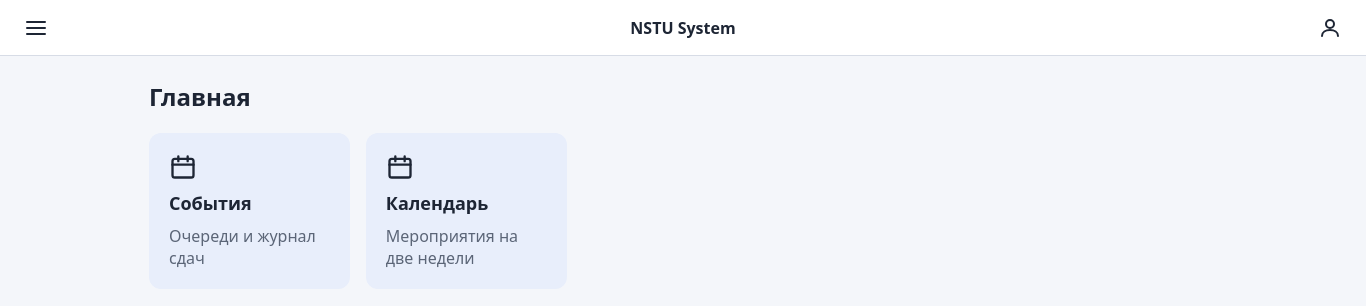
Test: оболочка интерфейса и иконка пользователя › Escape закрывает мини-инфо
expect the list with test id "module-grid" is shown: met, box [149,133,567,289]
Click the button named "Пользователь" at (1330, 28), box [1310,8,1350,48]
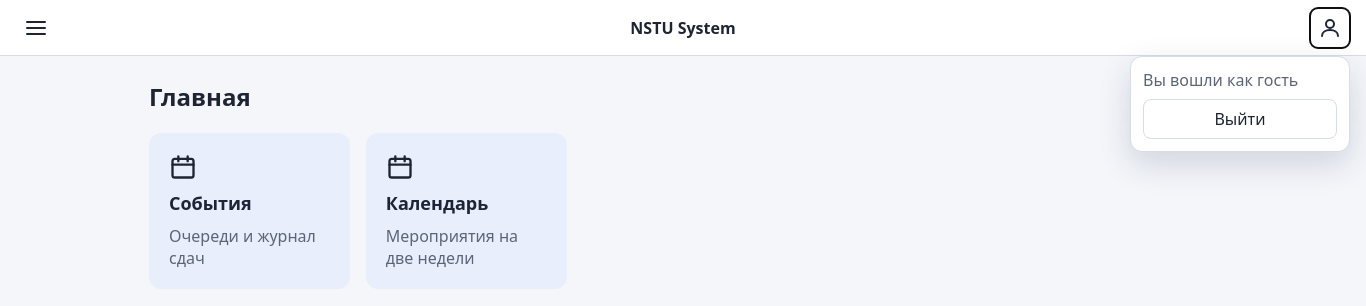
expect the element with test id "user-menu" showing "Вы вошли как гость Выйти" is shown: met, box [1130,56,1350,152]
Press Escape
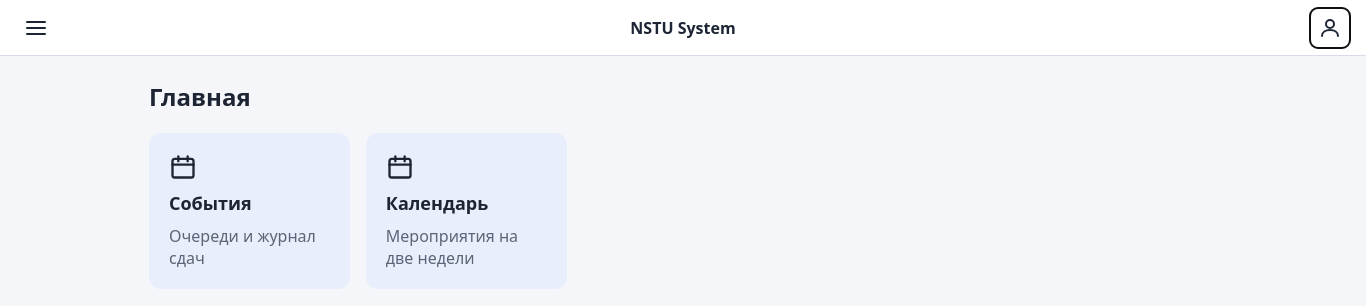
expect the text "Вы вошли как гость Выйти" is gone: met
